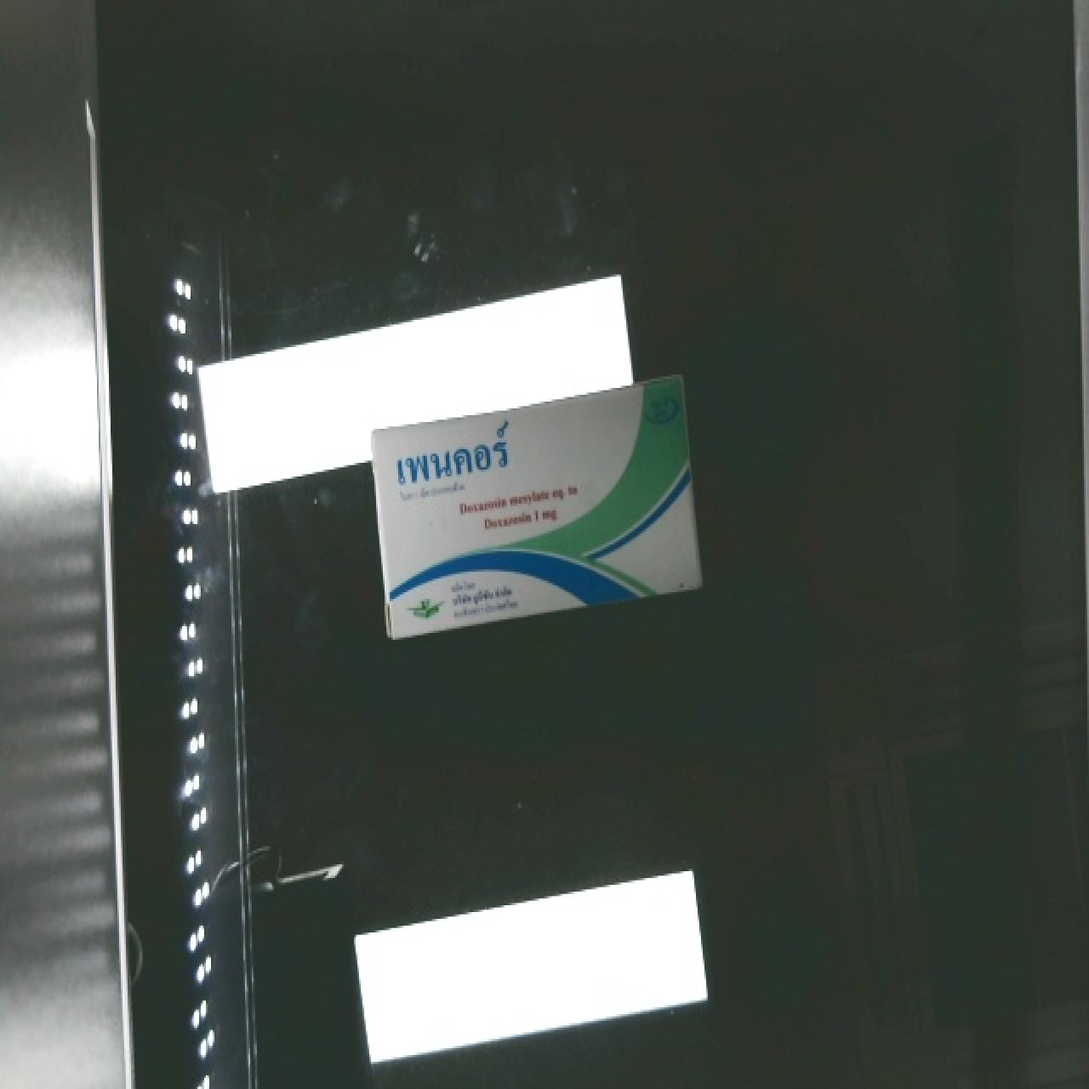medicine_label_obb: (370, 411, 528, 503)
